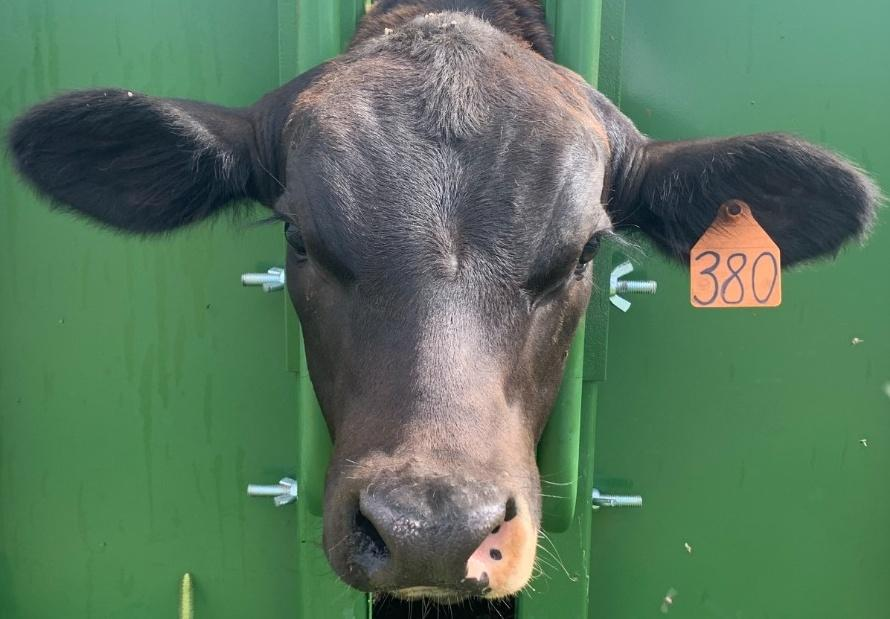muzzles: (312, 469, 559, 609)
